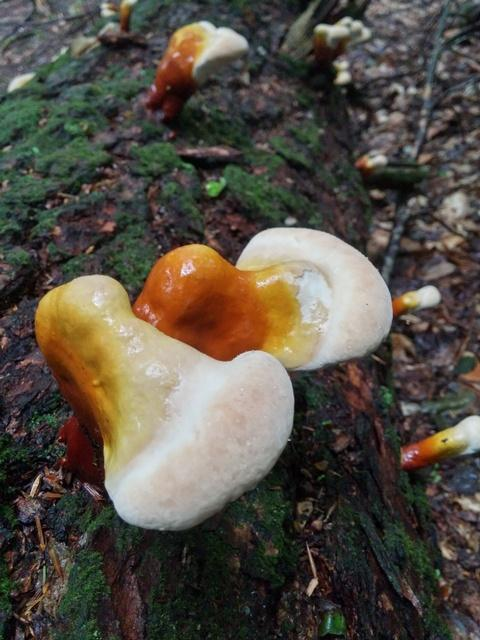Non-edible Mushroom: (42, 227, 480, 538), (76, 0, 388, 96)
